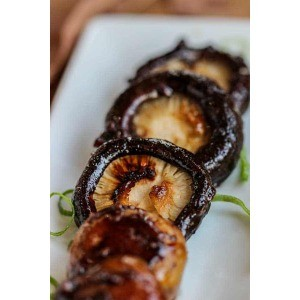mushroom_brain food: (91, 78, 208, 264)
